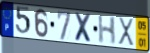5: (15, 6, 32, 38)
6: (33, 8, 49, 40)
7: (56, 9, 72, 42)
H: (98, 15, 117, 46)
X: (74, 12, 94, 45), (118, 16, 135, 49)
